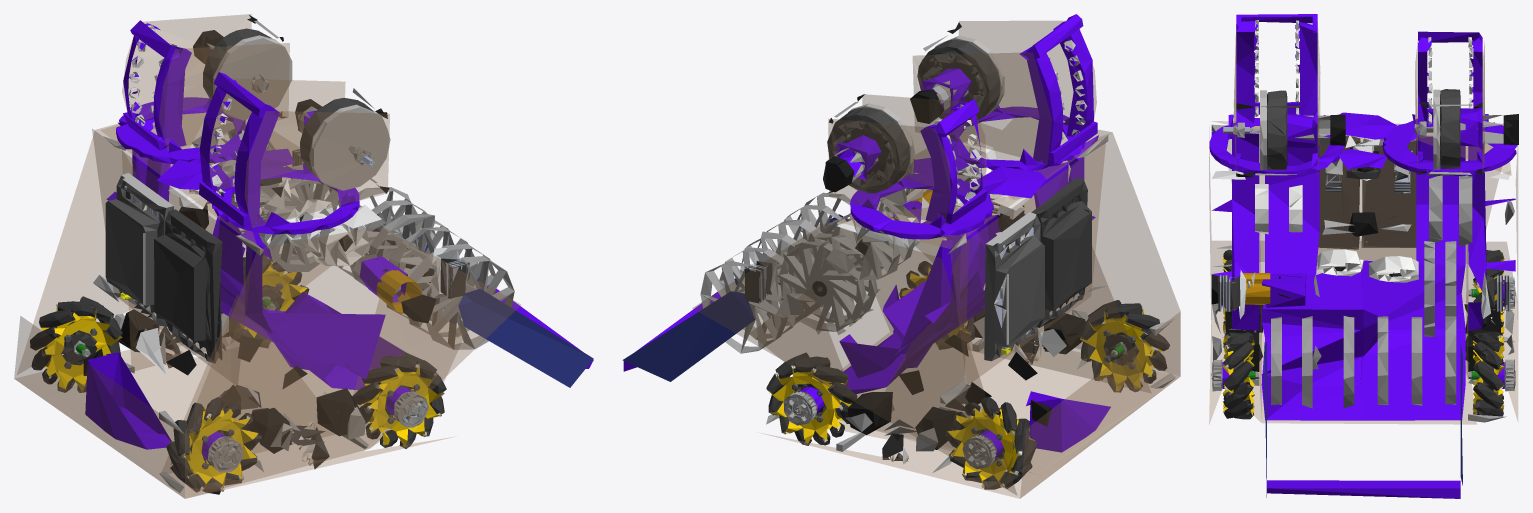
File: silver-bullet-blaster-low.glb
3 views of the same model, side by side, from view 1: azimuth 30°, elevation 25°; view 2: azimuth 150°, elevation 25°; view 3: azimuth 270°, elevation 25° (orthographic). The views are drawn at different scales.
Parts seen in each view (by area): view 1: body, turret2, turret, intake_front, wheel_br, wheel_fr, flywheel2, arm, wheel_bl, flywheel, intake_back, wheel_fl; view 2: body, turret2, turret, intake_front, wheel_bl, intake_back, wheel_fl, wheel_br, arm, flywheel, flywheel2, wheel_fr; view 3: body, turret2, turret, intake_front, arm, wheel_fr, wheel_fl, flywheel2, flywheel, intake_back, wheel_bl.
Boxes of the visible parts, <box> form: body: <box>14,113,520,498</box>; turret2: <box>198,72,389,234</box>; turret: <box>116,14,289,164</box>; intake_front: <box>338,187,514,349</box>; wheel_br: <box>166,397,261,494</box>; wheel_fr: <box>352,352,446,448</box>; flywheel2: <box>300,98,390,190</box>; arm: <box>368,214,593,387</box>; wheel_bl: <box>30,296,122,392</box>; flywheel: <box>203,28,292,120</box>; intake_back: <box>258,165,340,272</box>; wheel_fl: <box>229,253,309,347</box>; body: <box>692,117,1180,498</box>; turret2: <box>910,14,1097,170</box>; turret: <box>823,94,993,239</box>; intake_front: <box>700,192,850,353</box>; wheel_bl: <box>945,396,1037,489</box>; intake_back: <box>777,230,879,334</box>; wheel_fl: <box>766,352,857,445</box>; wheel_br: <box>1078,300,1169,392</box>; arm: <box>622,214,848,381</box>; flywheel: <box>827,103,914,193</box>; flywheel2: <box>917,35,1004,124</box>; wheel_fr: <box>899,261,975,349</box>; body: <box>1209,112,1518,424</box>; turret2: <box>1209,14,1345,177</box>; turret: <box>1382,31,1518,176</box>; intake_front: <box>1271,316,1456,408</box>; arm: <box>1264,342,1462,498</box>; wheel_fr: <box>1211,332,1258,419</box>; wheel_fl: <box>1468,331,1515,416</box>; flywheel2: <box>1260,90,1287,170</box>; flywheel: <box>1433,89,1460,169</box>; intake_back: <box>1424,241,1456,336</box>; wheel_bl: <box>1468,250,1515,334</box>.
Bounding box in the file's own units: 0.5461 × 0.4443 × 0.3647.
